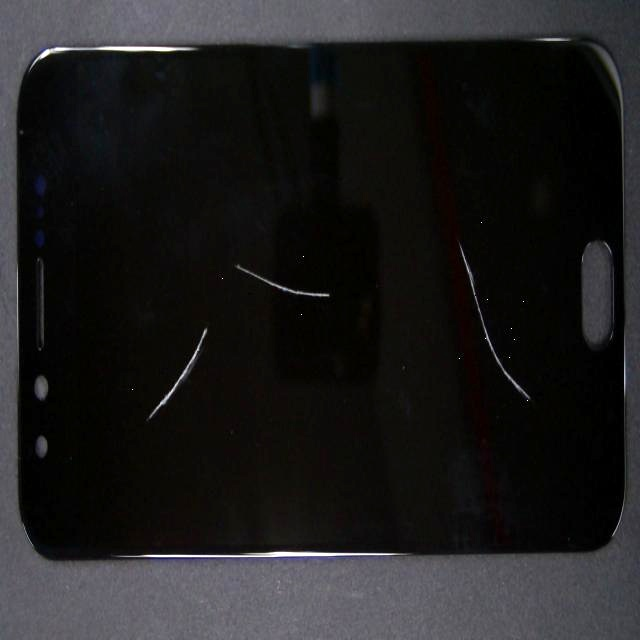scratch: (196, 81, 640, 500), (54, 122, 386, 439), (55, 184, 207, 634)
